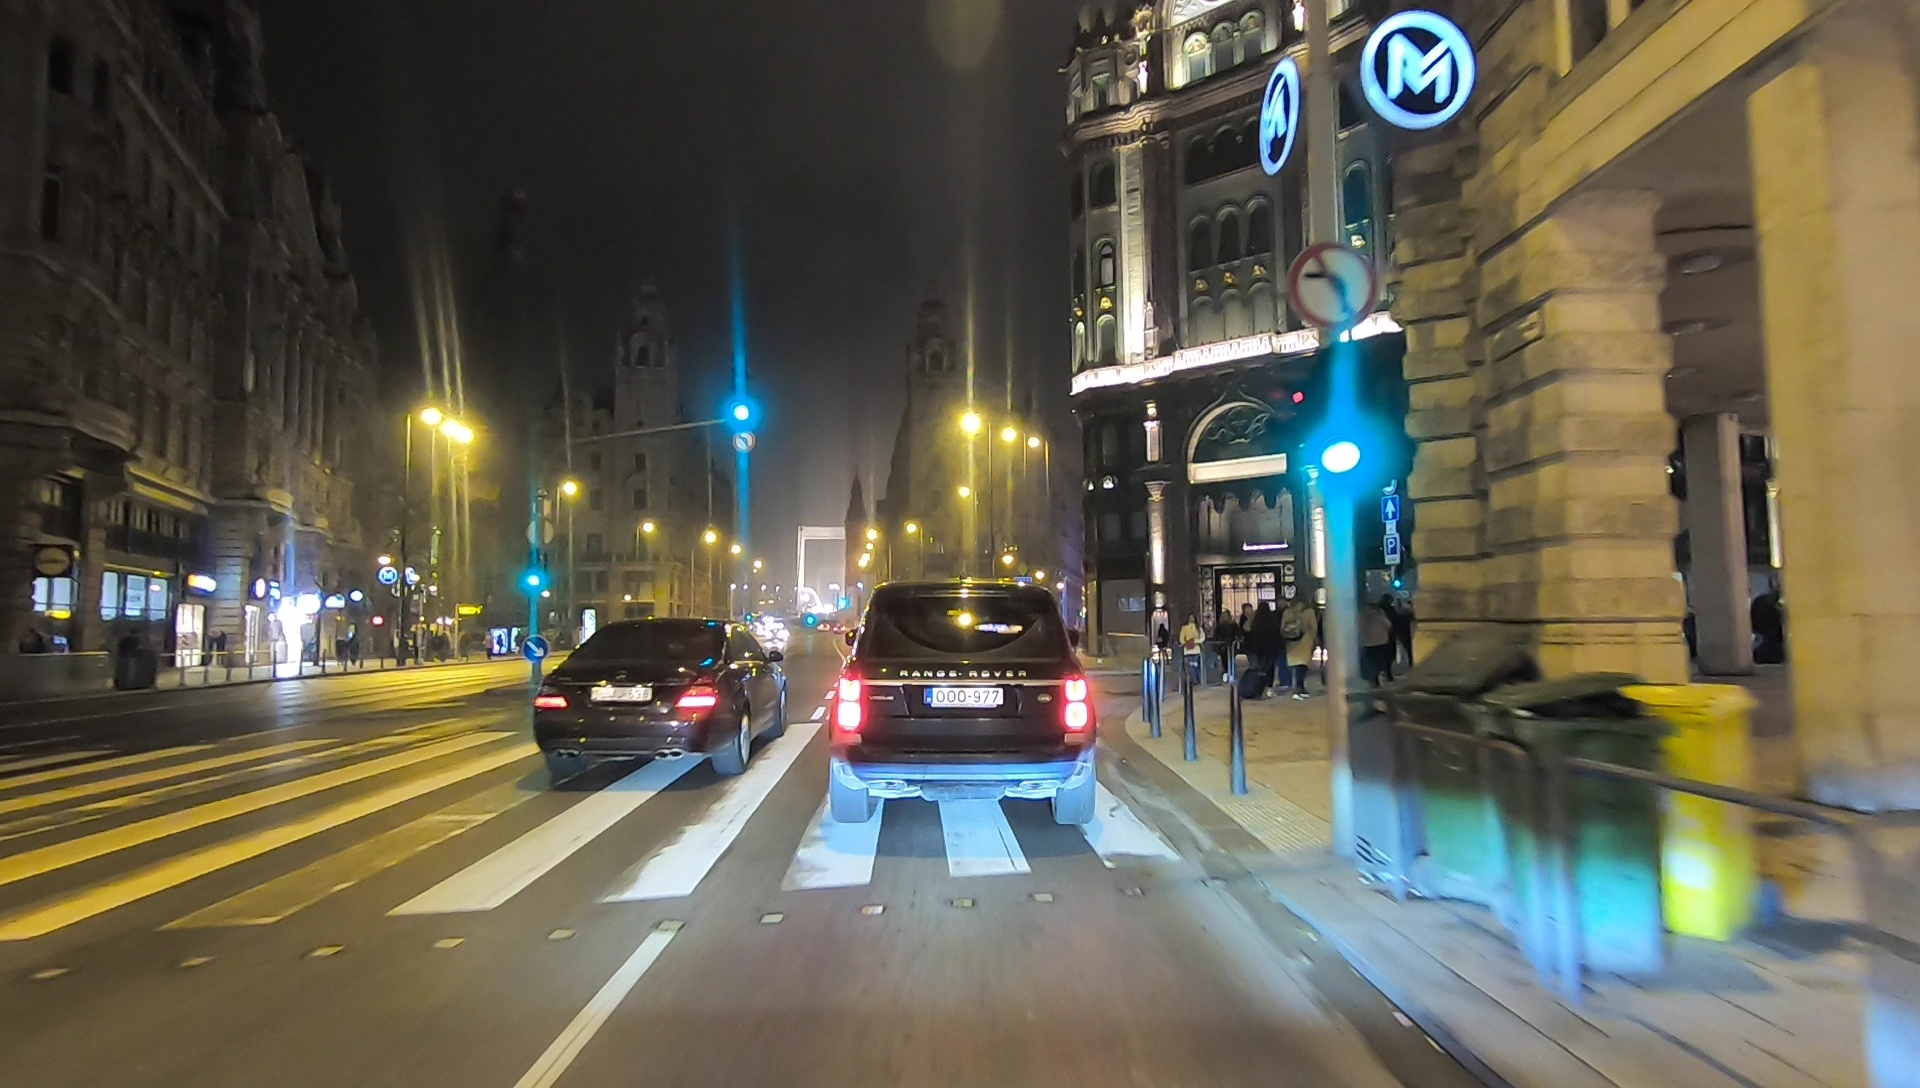person: (1284, 594, 1316, 699), (1251, 602, 1278, 691), (1214, 610, 1239, 681), (1180, 615, 1203, 684)
